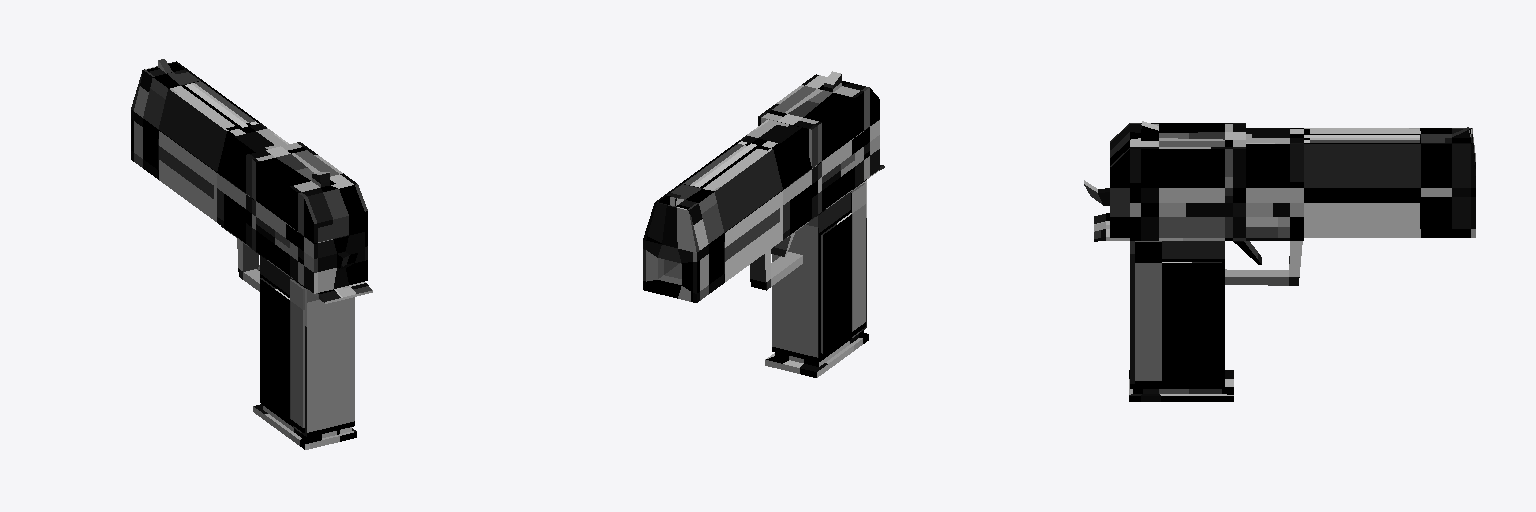
3 renders of one model, left to right at view 1: azimuth 30°, elevation 25°; view 2: azimuth 150°, elevation 25°; view 3: azimuth 270°, elevation 25°, orthographic.
Parts seen in each view (by area): view 1: Desert_Eagle_Cube.005; view 2: Desert_Eagle_Cube.005; view 3: Desert_Eagle_Cube.005.
Boxes of the visible parts, x1=… form: Desert_Eagle_Cube.005: x1=131, y1=59, x2=372, y2=449; Desert_Eagle_Cube.005: x1=643, y1=71, x2=884, y2=377; Desert_Eagle_Cube.005: x1=1084, y1=121, x2=1475, y2=401.
Bounding box in the file's own units: 0.9637 × 4.54 × 6.08.
1 materials, 1 textured.